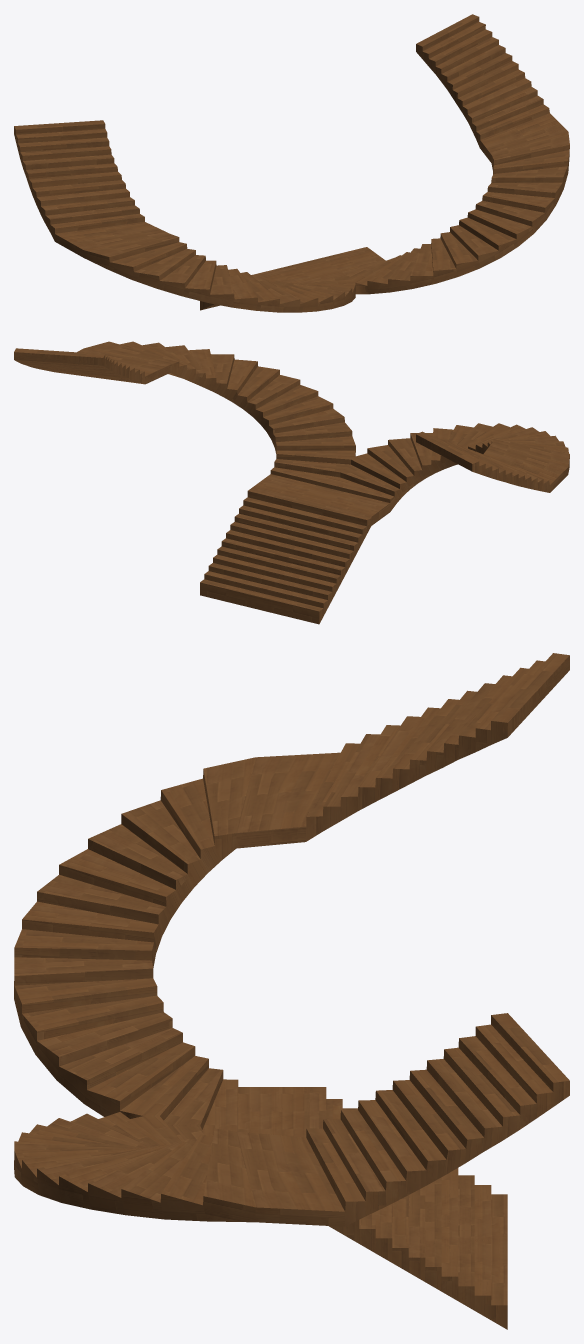
File: mainstairtest.glb
3 renders of one model, top to bottom at view 1: azimuth 30°, elevation 25°; view 2: azimuth 150°, elevation 25°; view 3: azimuth 270°, elevation 25°, orthographic. The views are drawn at different scales.
Visible parts, largest first — view 1: MainStair; view 2: MainStair; view 3: MainStair.
Boxes of the visible parts, box(x1,y1,x2,y2) form: MainStair: box(14, 14, 569, 312); MainStair: box(14, 341, 569, 624); MainStair: box(14, 653, 569, 1329).
Size of what is drawn, in the model's own units: 33.36 by 13.77 by 17.07.
Materials: 1 (1 with a texture image).
